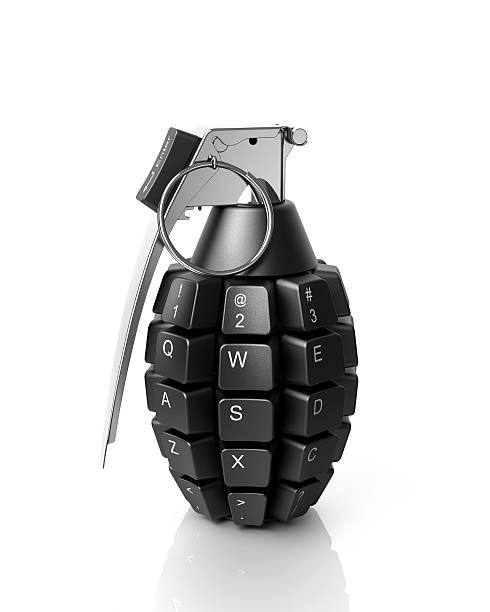e1: (99, 122, 362, 530)
